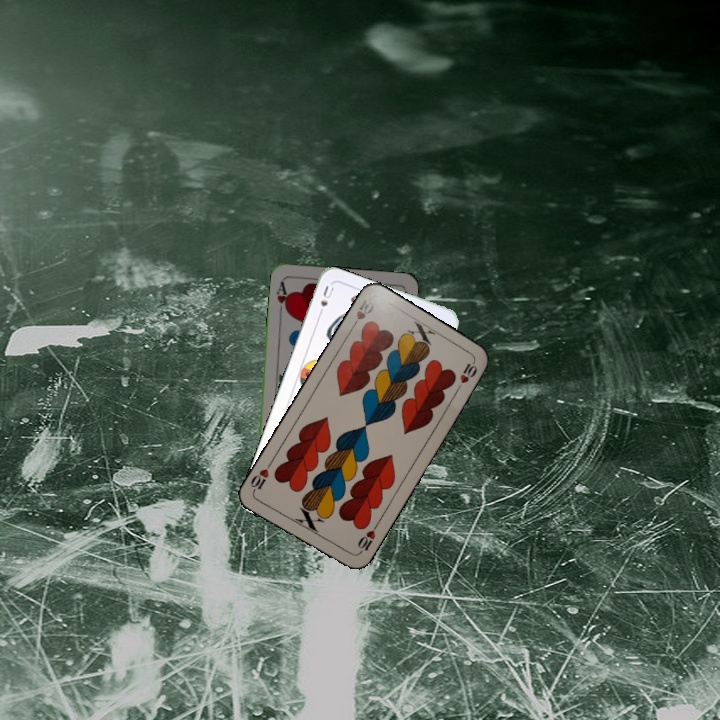H10: (347, 296, 377, 332), (354, 520, 380, 557)
HA: (272, 277, 292, 317)
SU: (314, 282, 336, 320)
